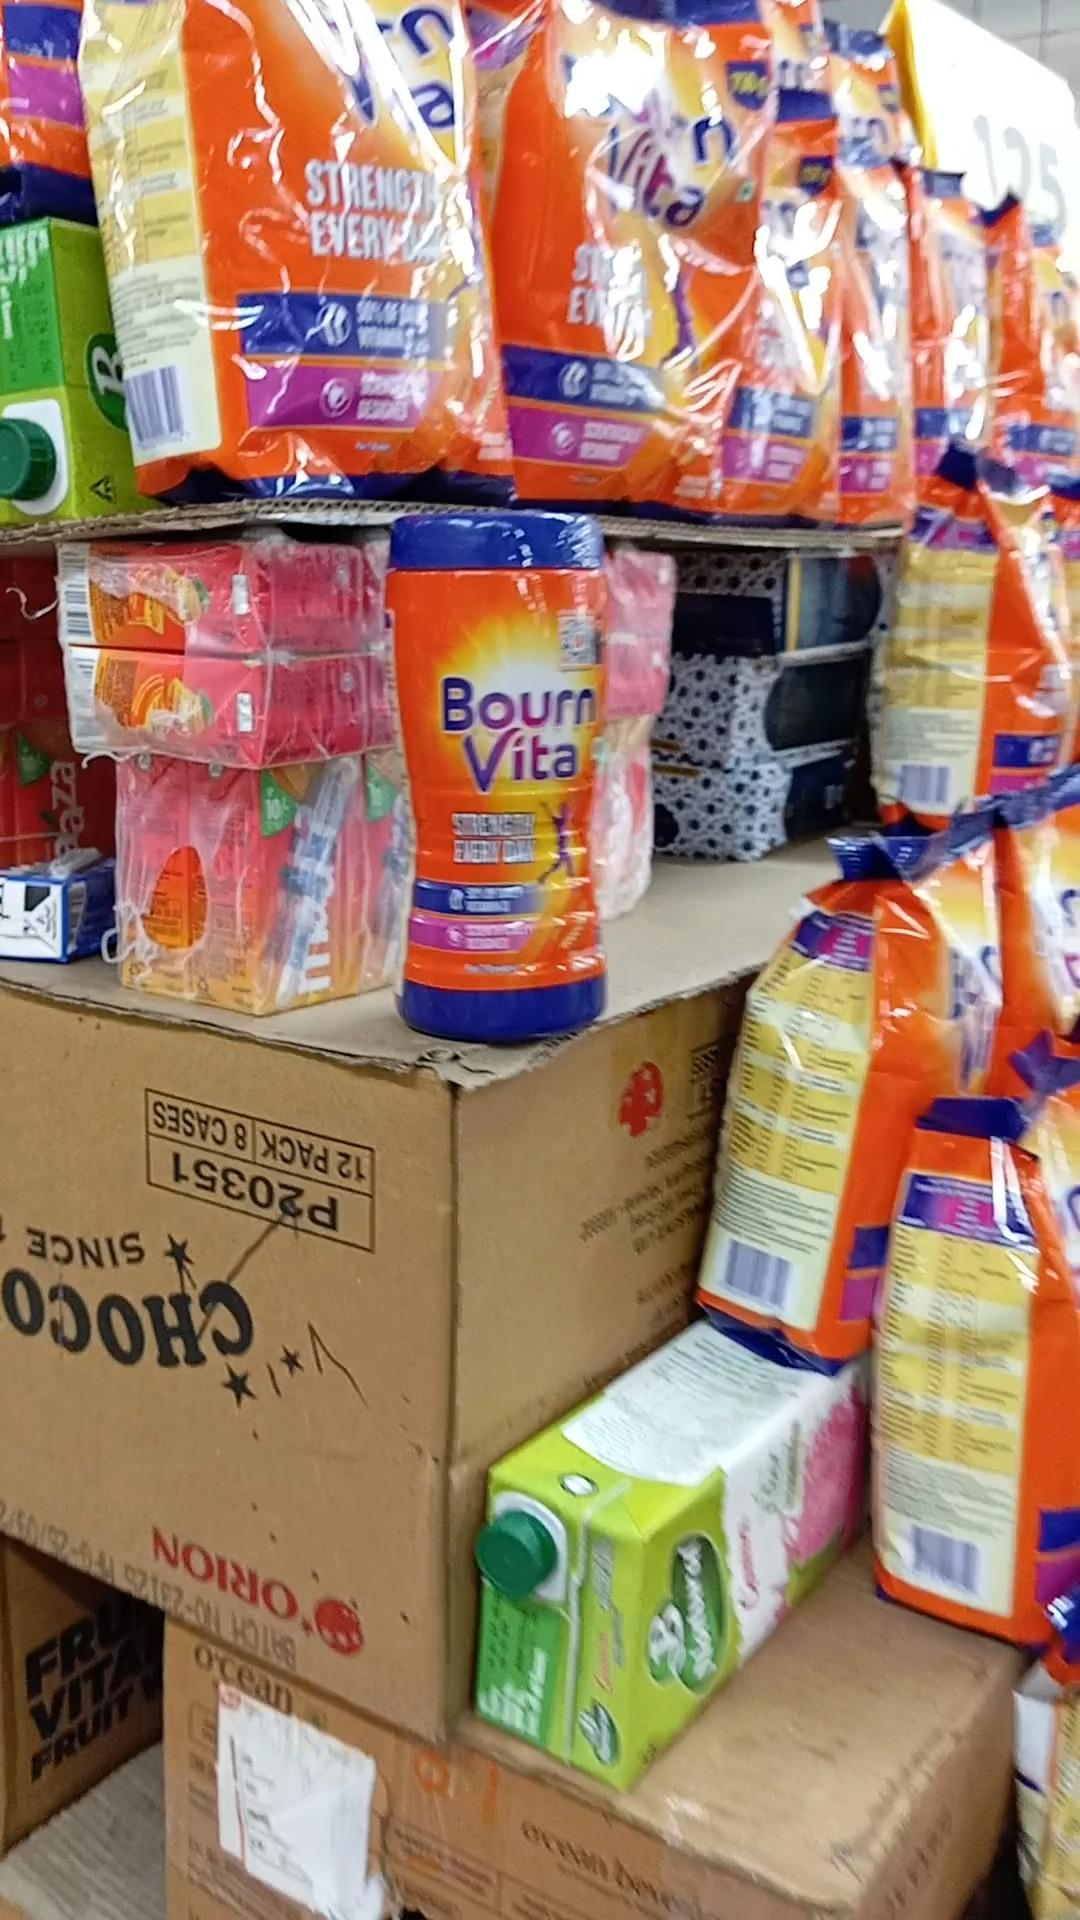BOURN_VITA_200_G_JAR: (392, 496, 613, 1034)
